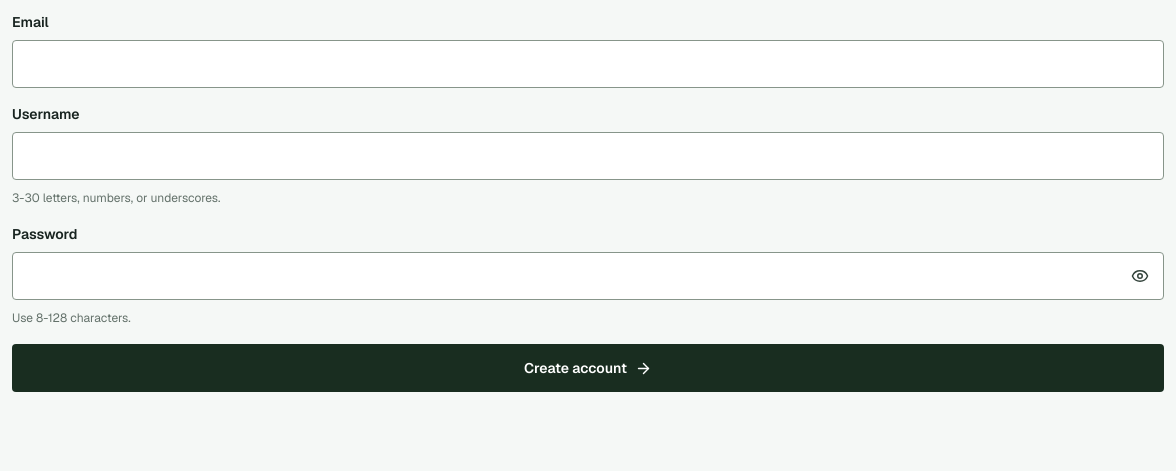
Test: RegisterForm › shows a safe conflict error and focuses it
The width and height of the screenshot is (1176, 471).
Type "person@example.com" into the field labelled "Email" at (588, 64), box [12,40,1164,88]
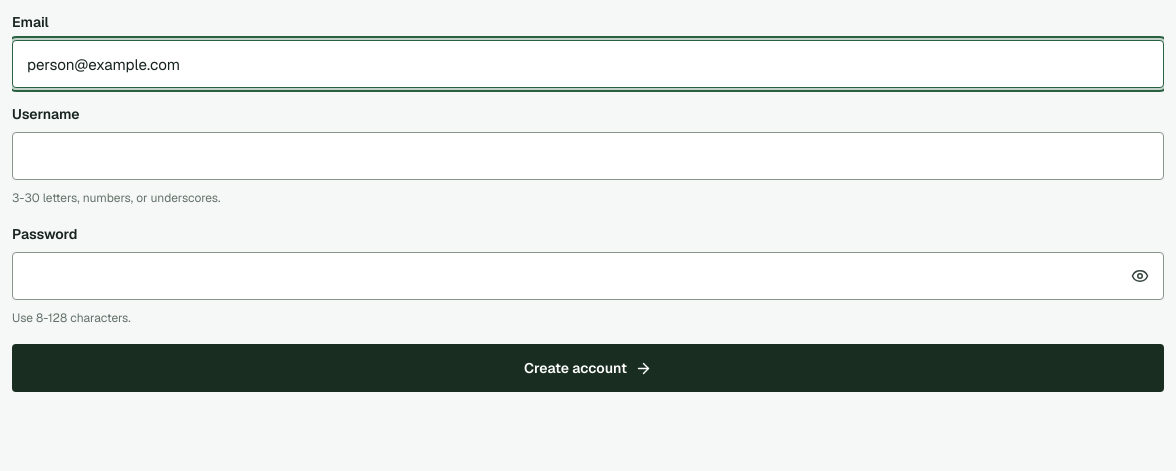
Type "person" into the field labelled "Username" at (588, 156), box [12,132,1164,180]
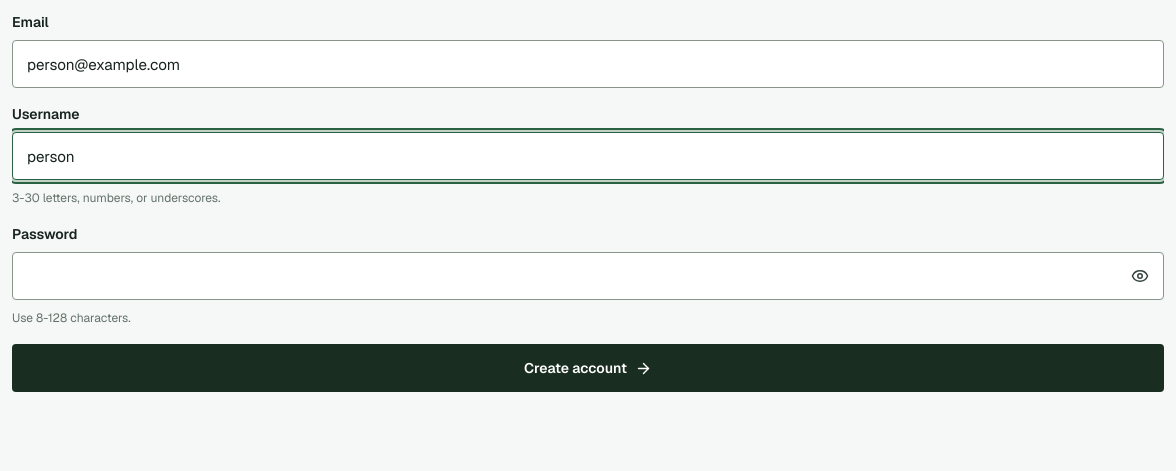
Type "correct-horse-42" into the password field labelled "Password" at (588, 276), box [12,252,1164,300]
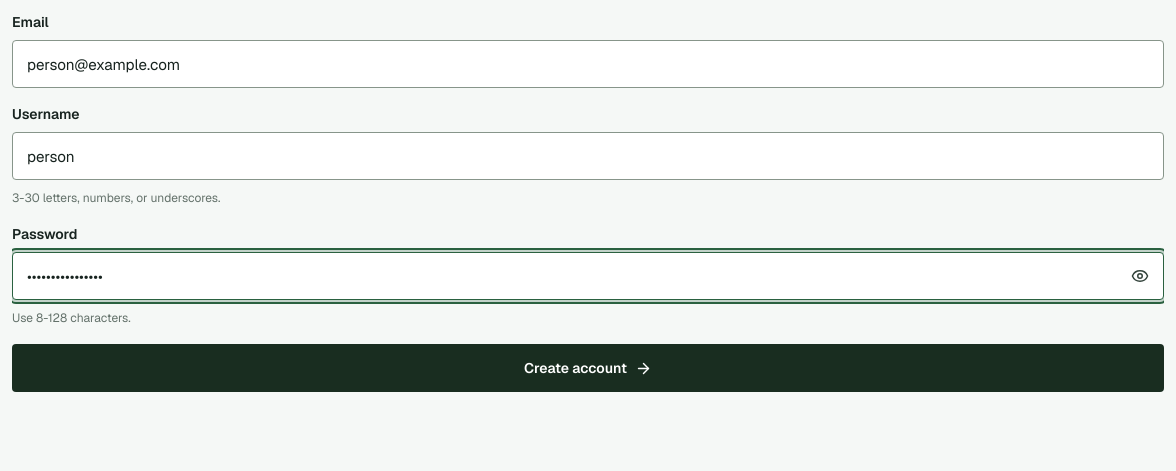
Click the button "Create account" at (588, 368), box [12,344,1164,392]
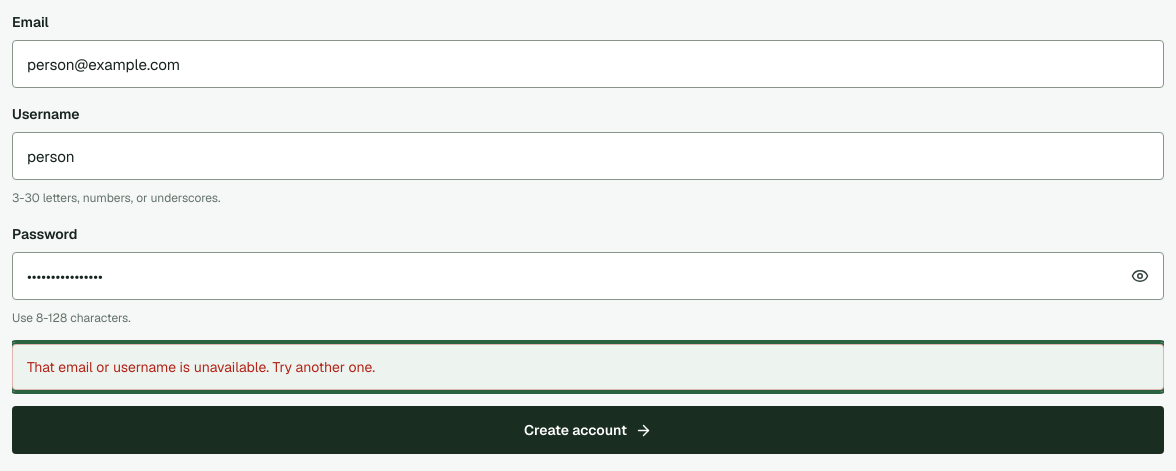
Now the message shows "email or username is unavailable", box [27,358,375,376]
